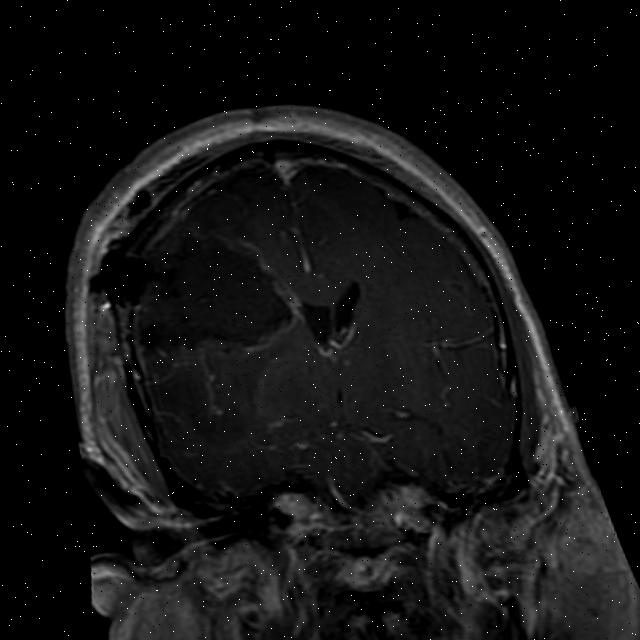Glioma: (117, 213, 312, 372)
